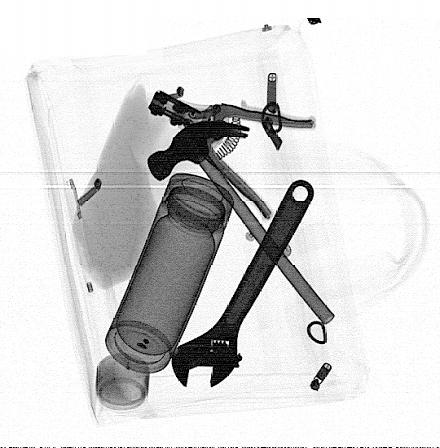Hammer: (145, 120, 337, 327)
Pliers: (146, 90, 320, 221)
Wrench: (172, 178, 312, 390)
